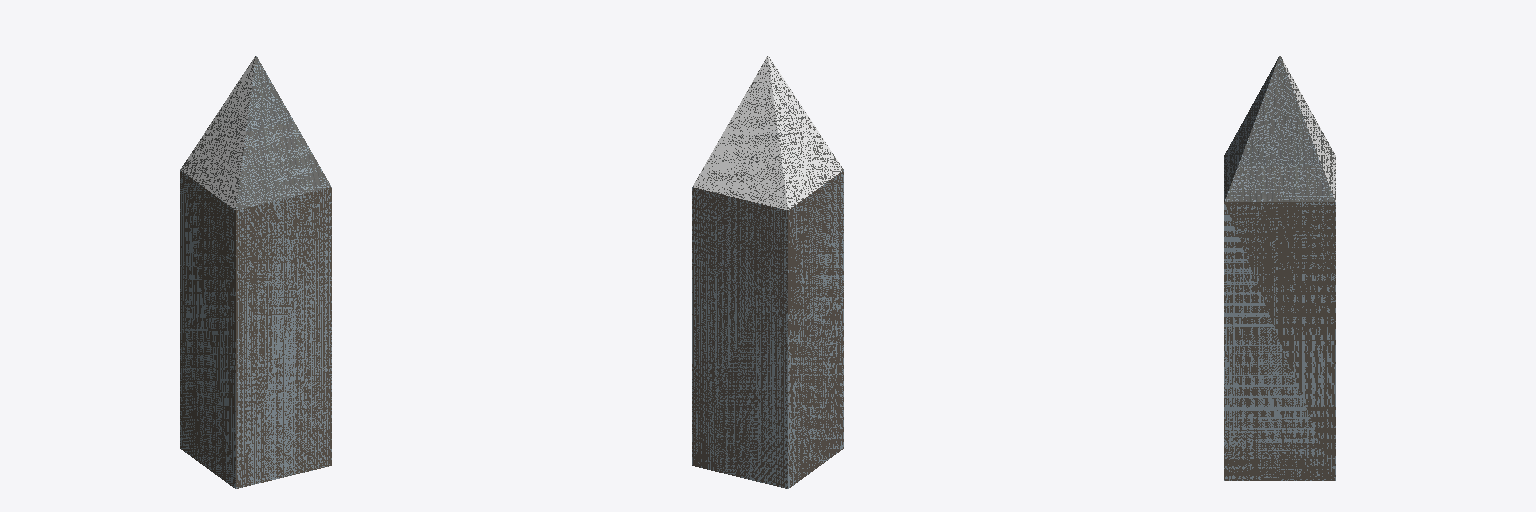
The picture shows the model from 3 angles: view 1: azimuth 30°, elevation 25°; view 2: azimuth 150°, elevation 25°; view 3: azimuth 270°, elevation 25°; orthographic projection.
Visible parts, largest first — view 1: Mesh1 tourAncienne1 Model; view 2: Mesh1 tourAncienne1 Model; view 3: Mesh1 tourAncienne1 Model.
Boxes of the visible parts, <box> form: Mesh1 tourAncienne1 Model: <box>180,56,331,488</box>; Mesh1 tourAncienne1 Model: <box>692,56,843,488</box>; Mesh1 tourAncienne1 Model: <box>1224,56,1335,480</box>.
Bounding box in the file's own units: 1 × 4 × 1.
4 materials, 1 textured.